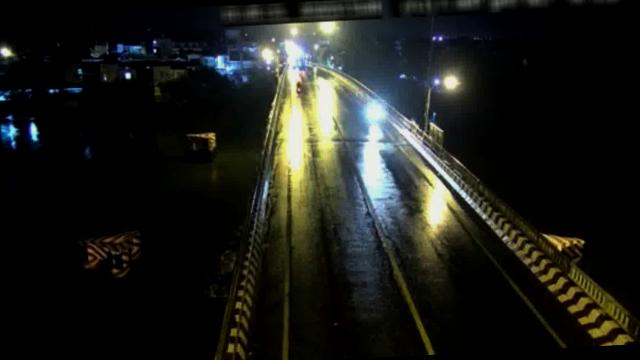Bike: (363, 99, 386, 124)
